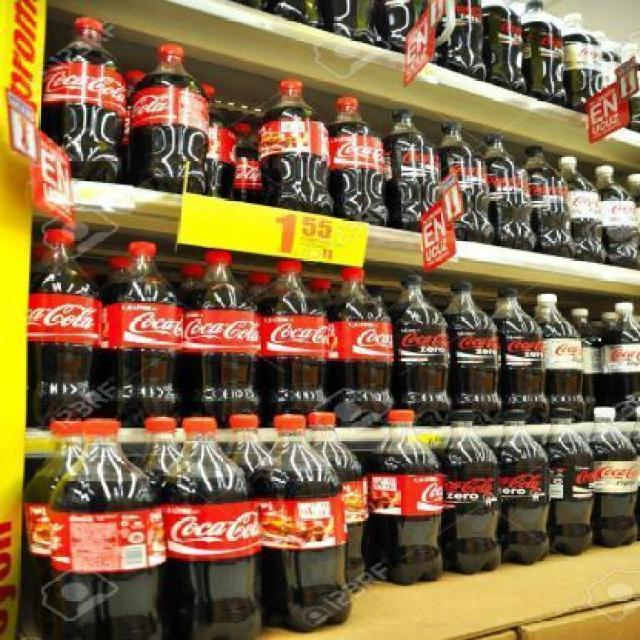Drinks: (46, 419, 164, 639), (159, 417, 259, 638), (254, 415, 351, 634), (28, 228, 104, 432), (104, 240, 186, 428), (43, 18, 128, 182), (370, 410, 446, 586), (186, 252, 260, 429), (260, 258, 332, 429), (132, 43, 209, 196), (256, 78, 333, 216), (439, 408, 500, 576), (490, 409, 552, 566), (334, 268, 394, 426), (392, 275, 450, 428), (443, 280, 502, 426), (541, 409, 596, 558), (492, 288, 550, 425), (586, 406, 640, 548), (436, 121, 496, 246), (331, 95, 386, 228), (387, 110, 442, 233), (525, 147, 580, 260), (535, 292, 582, 424), (486, 132, 537, 250), (595, 165, 640, 272), (600, 300, 638, 423), (522, 0, 566, 106), (564, 12, 608, 115), (559, 156, 600, 265), (484, 0, 526, 95), (437, 1, 483, 76)
